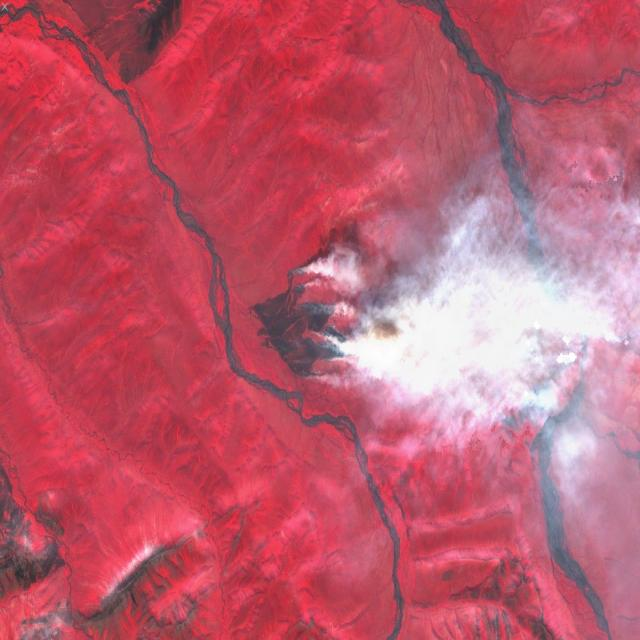fire: (257, 254, 375, 396)
